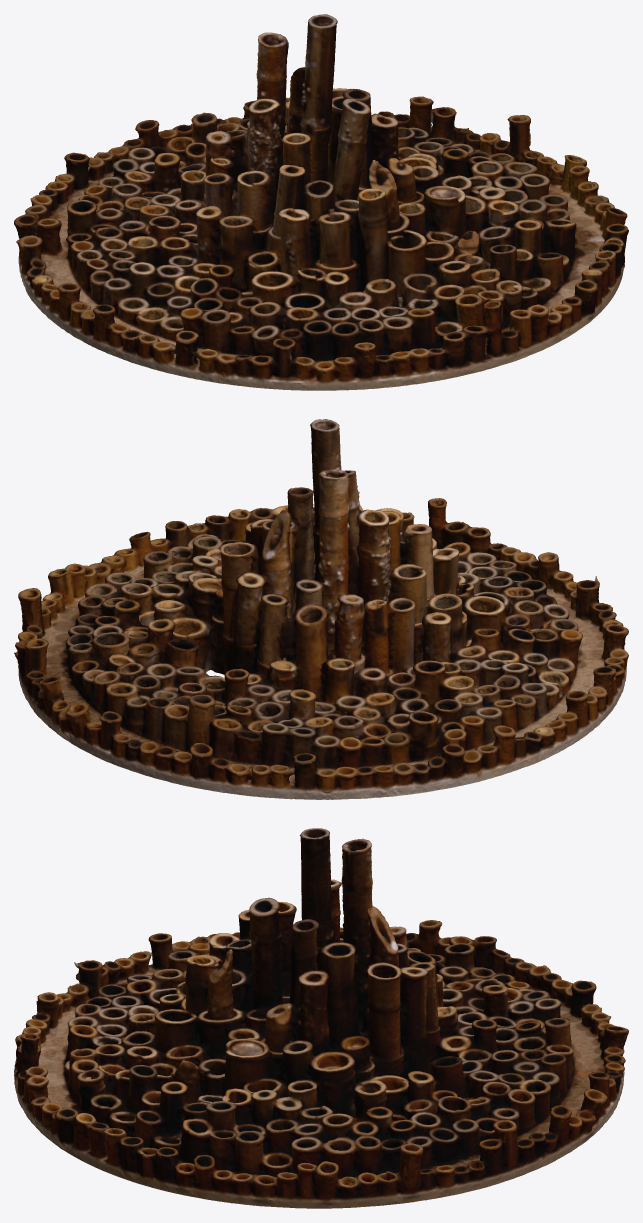
File: NCB.glb
3 views of the same model, one above another, from view 1: azimuth 30°, elevation 25°; view 2: azimuth 150°, elevation 25°; view 3: azimuth 270°, elevation 25° (orthographic).
Visible parts, largest first — view 1: Model; view 2: Model; view 3: Model.
Boxes of the visible parts, x1=… form: Model: x1=14, y1=14, x2=628, y2=390; Model: x1=14, y1=419, x2=628, y2=799; Model: x1=14, y1=828, x2=628, y2=1208.
Bounding box in the file's own units: 6.96 × 3.07 × 6.93.
1 material, 1 textured.
